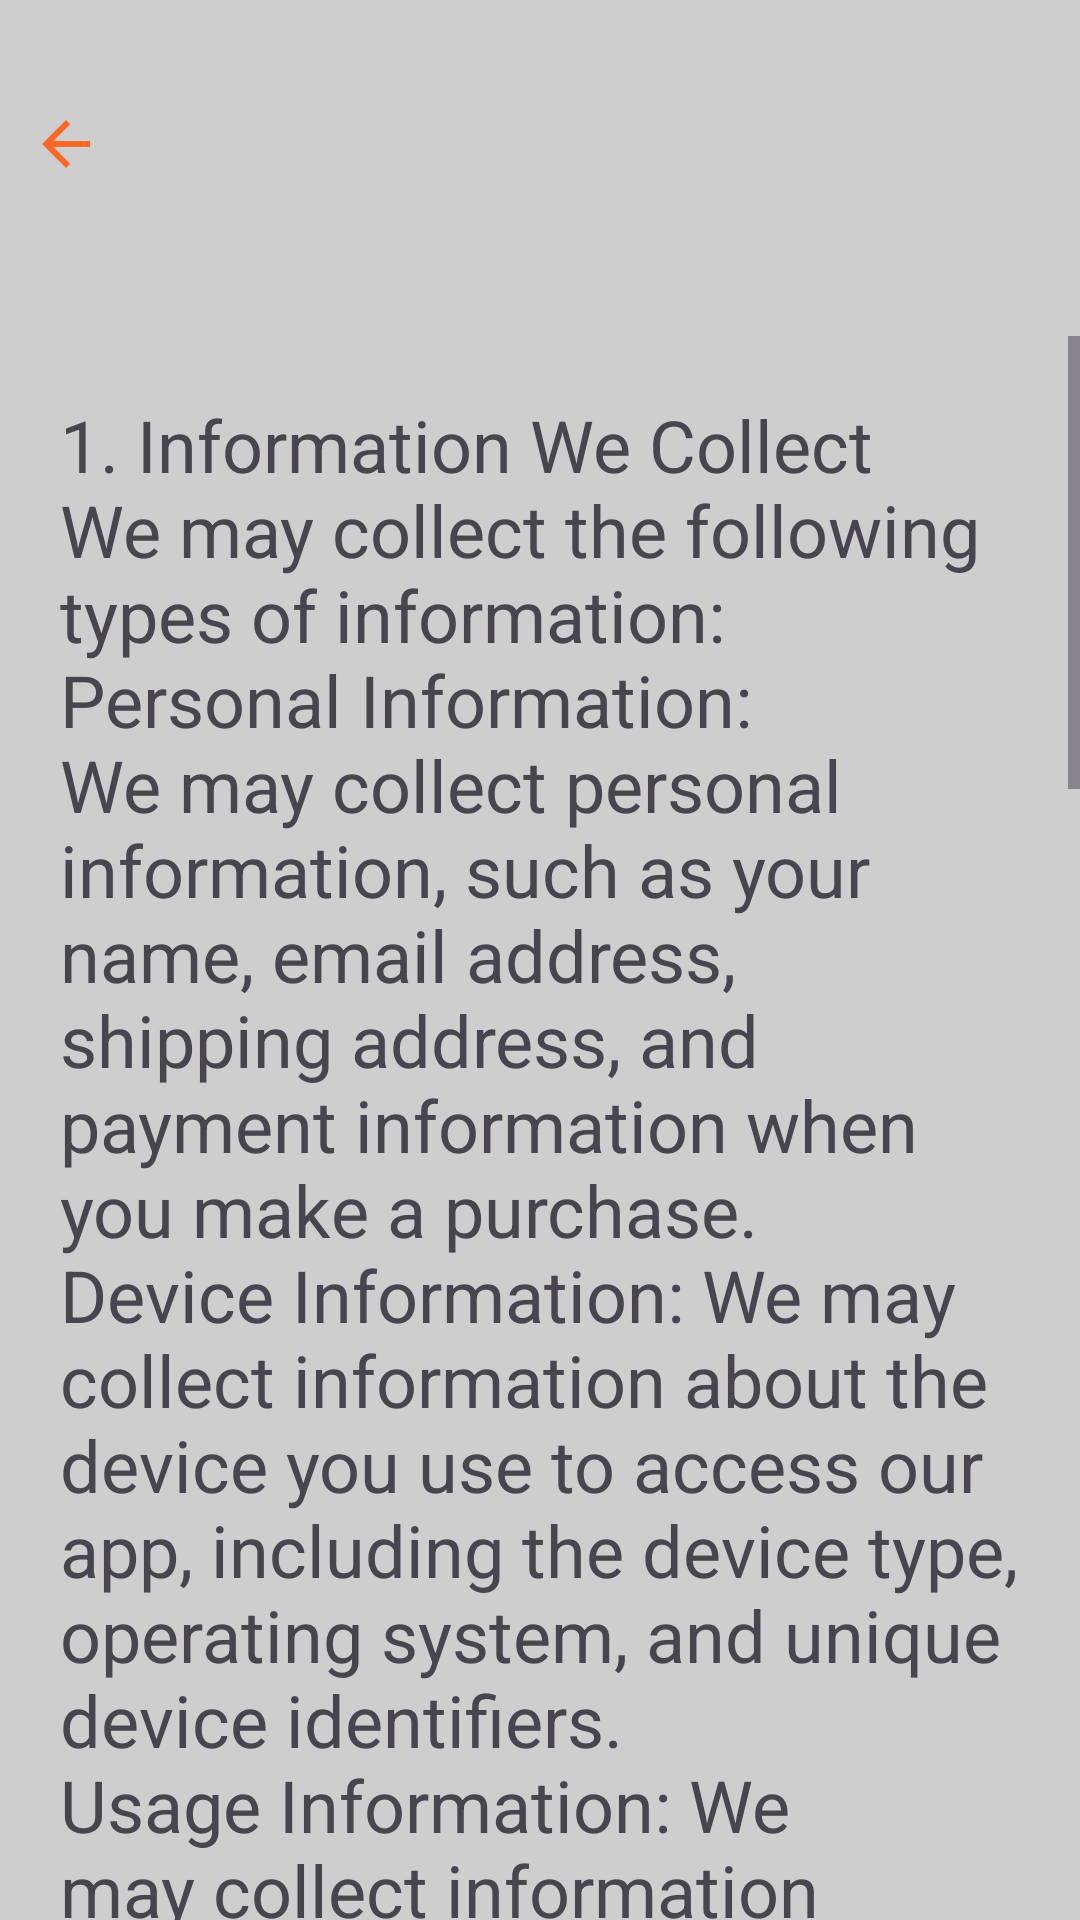

Where icons sit on this 1080w x 1920h app screen, as [left=x1, top=y1, right=x2, bottom=y2]:
back: [left=42, top=120, right=90, bottom=168]
